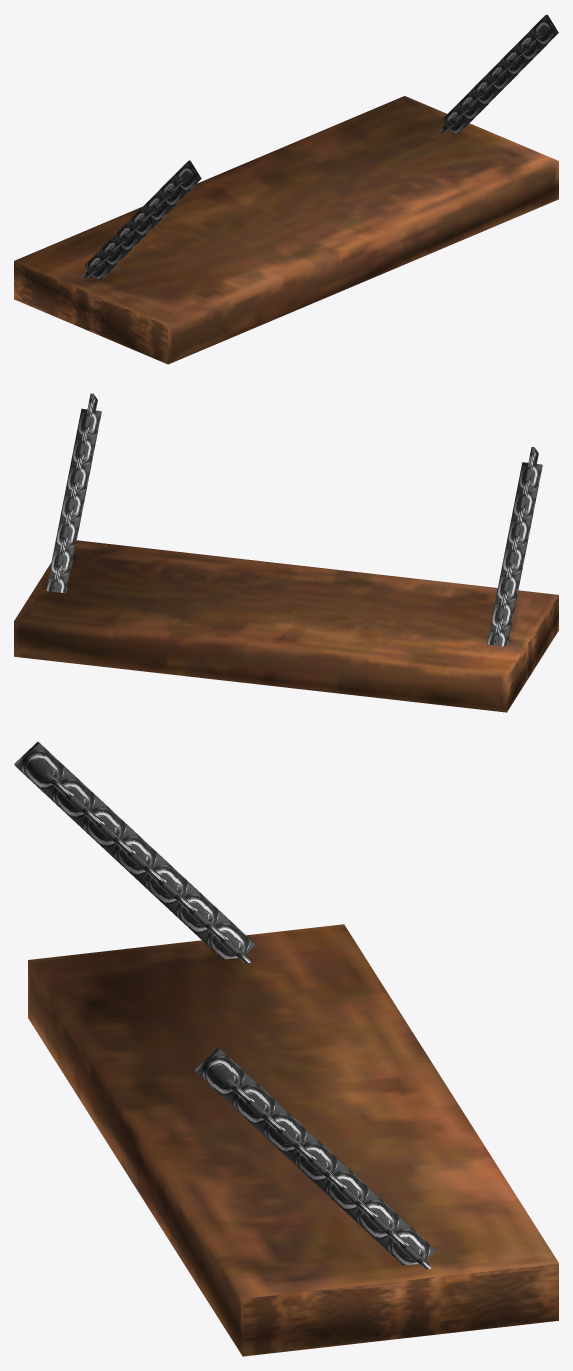
File: SWORDLIGHT20_JAILCOT01.fbx
3 views of the same model, one above another, from view 1: azimuth 30°, elevation 25°; view 2: azimuth 150°, elevation 25°; view 3: azimuth 270°, elevation 25° (orthographic). The views are drawn at different scales.
Visible parts, largest first — view 1: SWORDLIGHT20_JAILCOT01; view 2: SWORDLIGHT20_JAILCOT01; view 3: SWORDLIGHT20_JAILCOT01.
Part boxes in pixels (<box>): SWORDLIGHT20_JAILCOT01: <box>14,14,558,364</box>; SWORDLIGHT20_JAILCOT01: <box>14,393,558,712</box>; SWORDLIGHT20_JAILCOT01: <box>14,741,558,1356</box>.
Size of the model in its own units: 26612 by 9715 by 16361.
2 materials, 2 textured.
